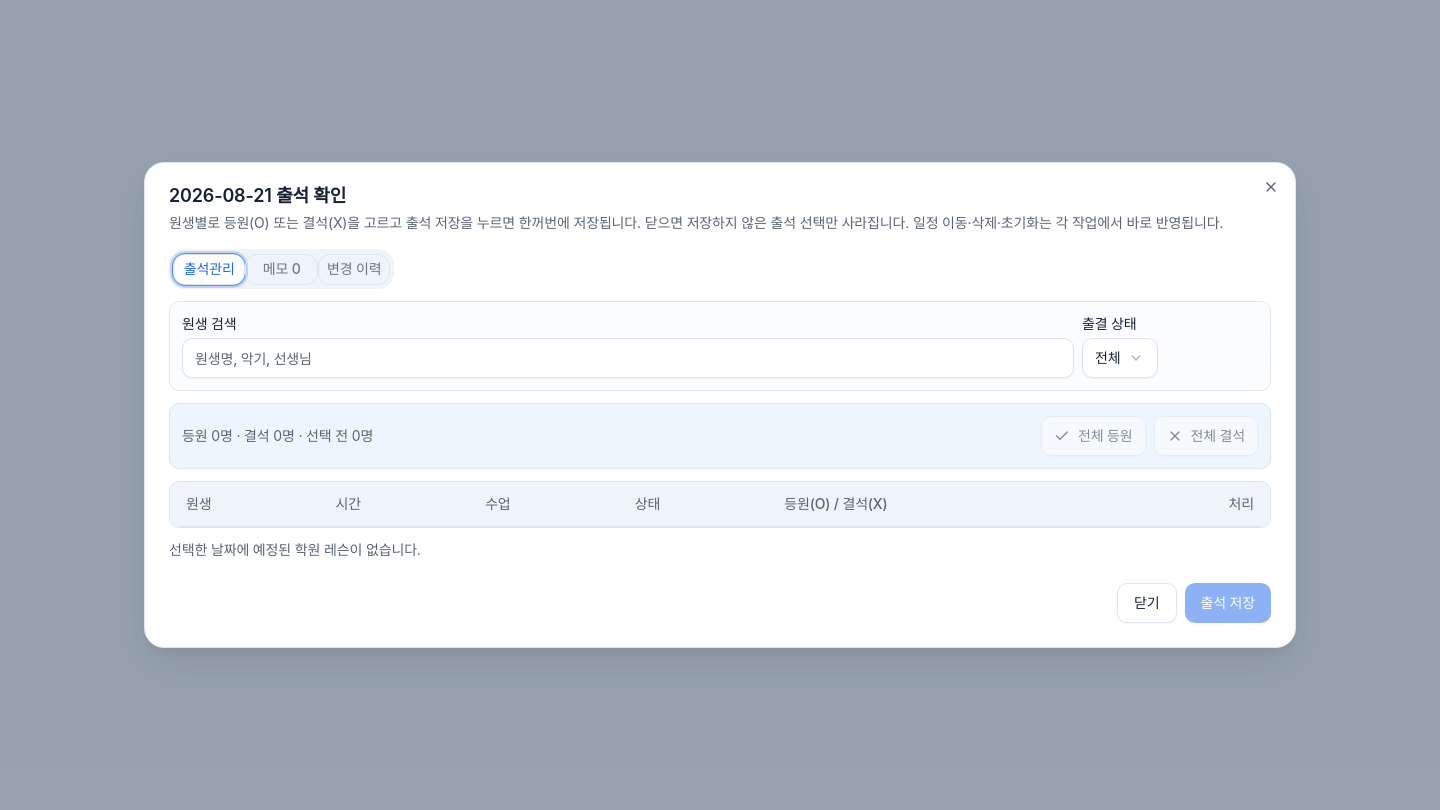
it: AcademyDayAttendanceDialog 변경 이력 › 관리 권한이 있고 이력이 주어지면 변경 이력 탭에서 이력을 볼 수 있다
Expected: the text "일정 이동 기록" is not shown
Step 1. Click the tab "변경 이력" → x=354, y=269, box [318,254,390,284]
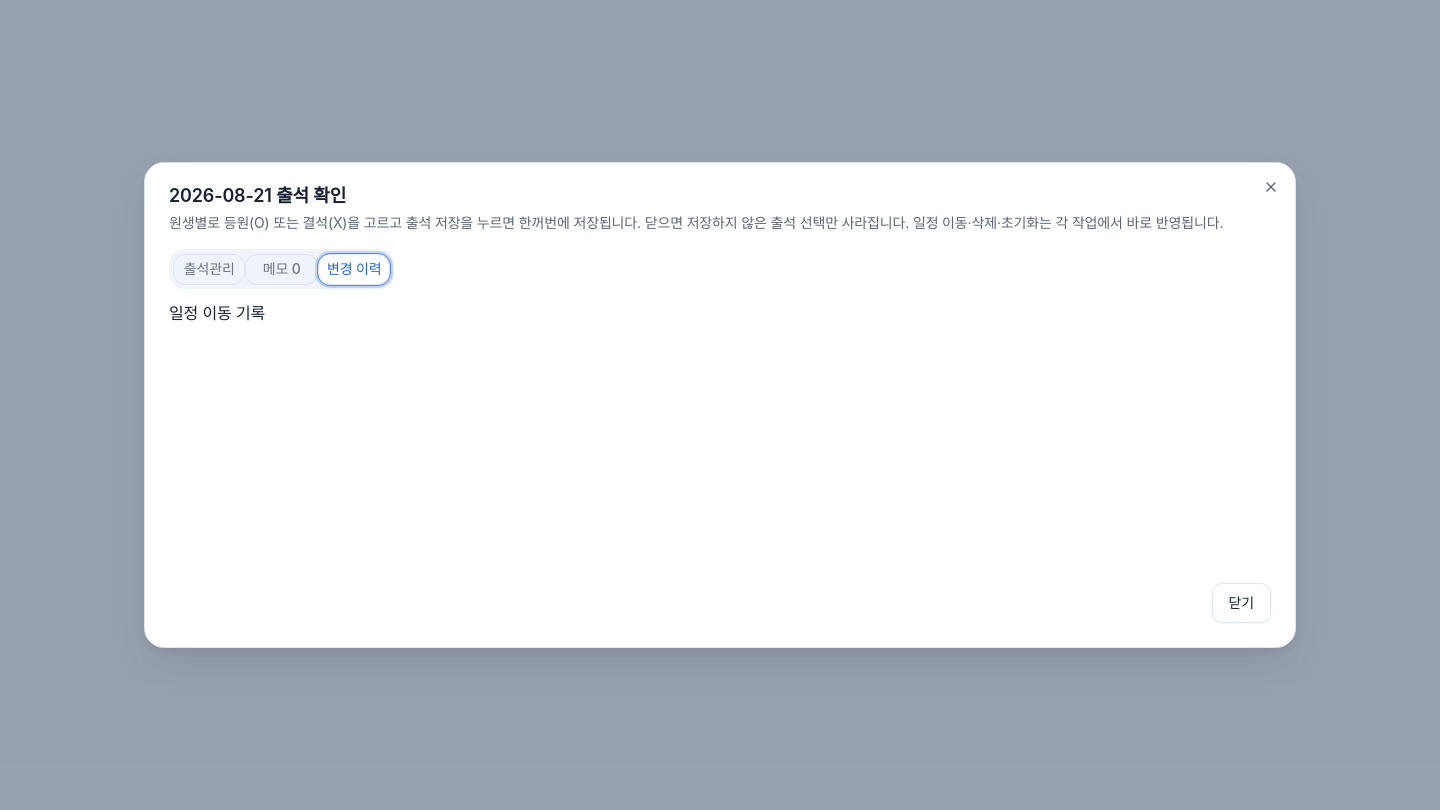
Result: the text "일정 이동 기록" is shown at [169,303,265,323]
